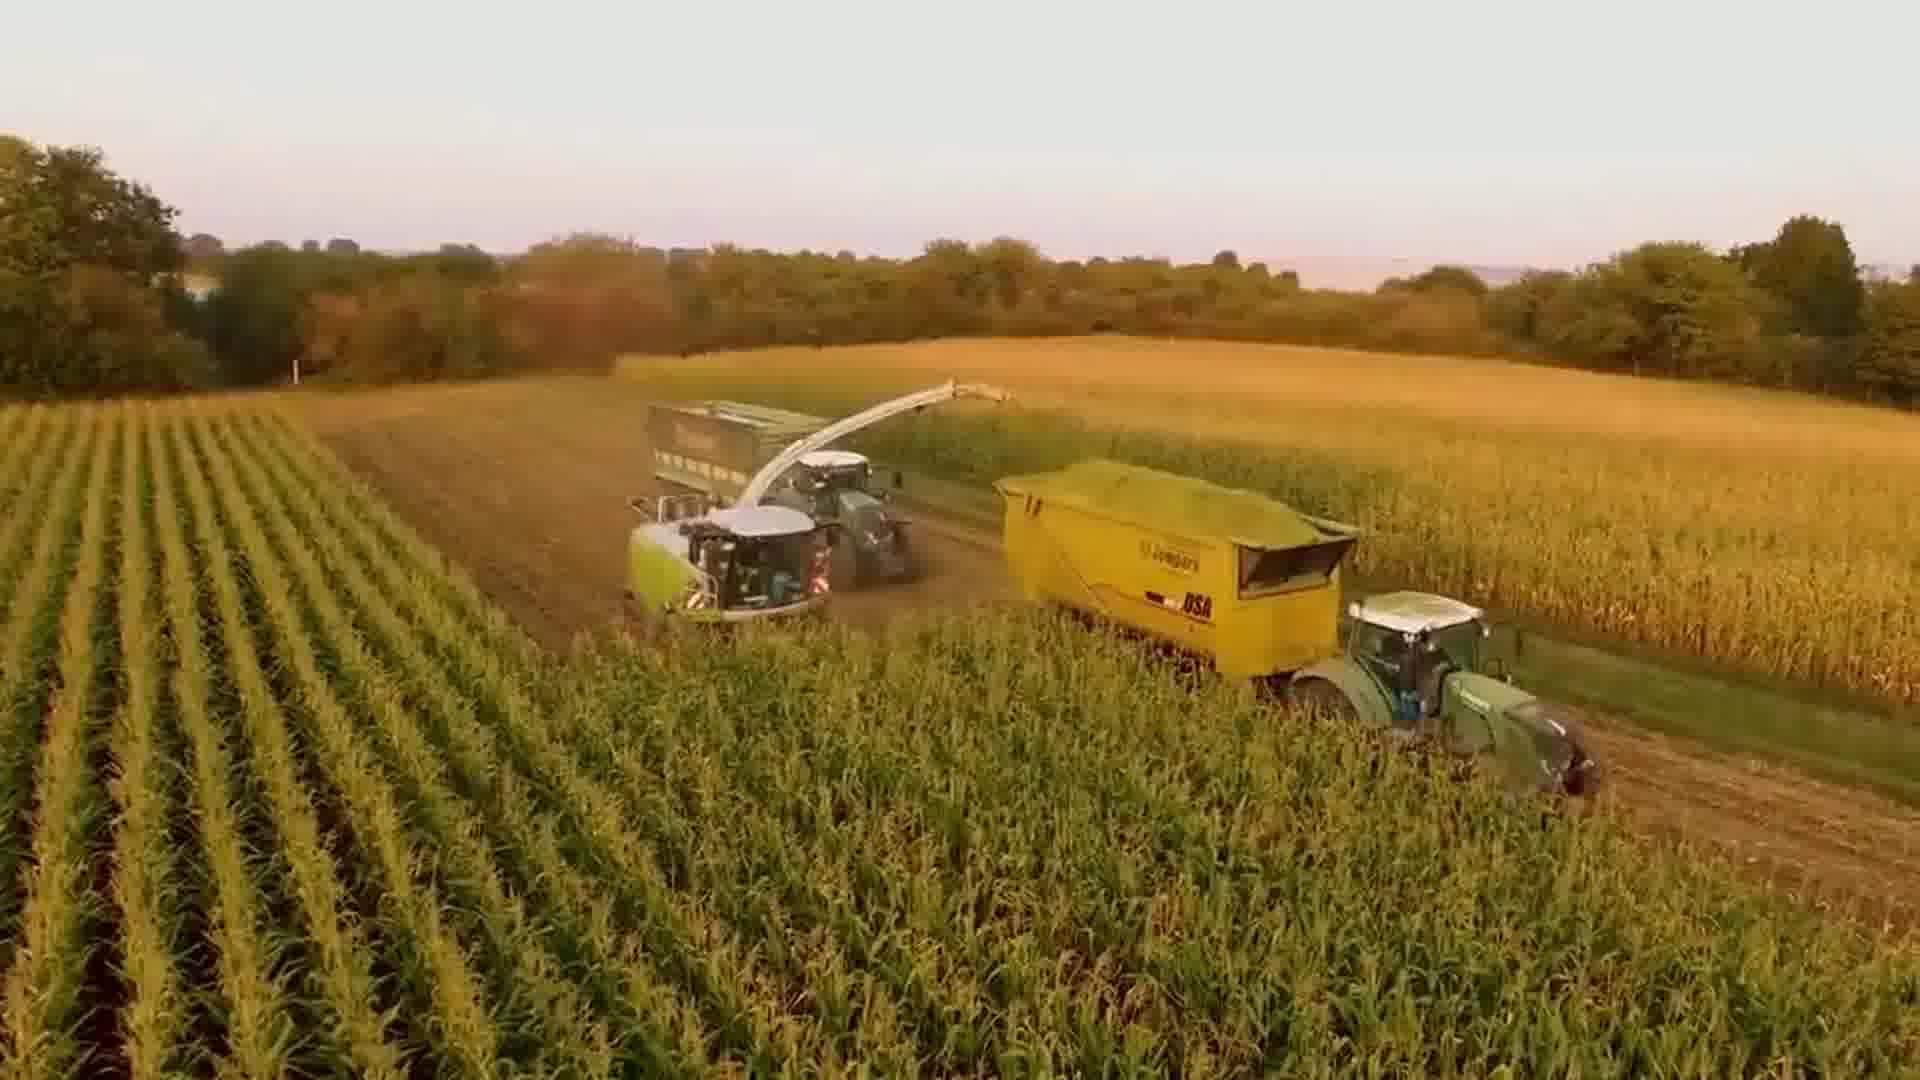combine harvester: (605, 368, 971, 671)
tractor: (1283, 582, 1613, 827), (773, 443, 936, 596)
trailer: (989, 444, 1366, 707), (640, 394, 831, 514)
